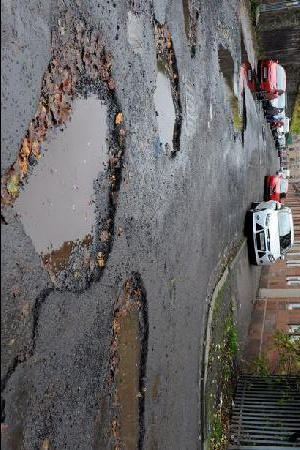pothole: (0, 18, 129, 302), (106, 268, 152, 449), (147, 12, 184, 161), (227, 84, 248, 147), (179, 0, 201, 58), (213, 41, 238, 89)
